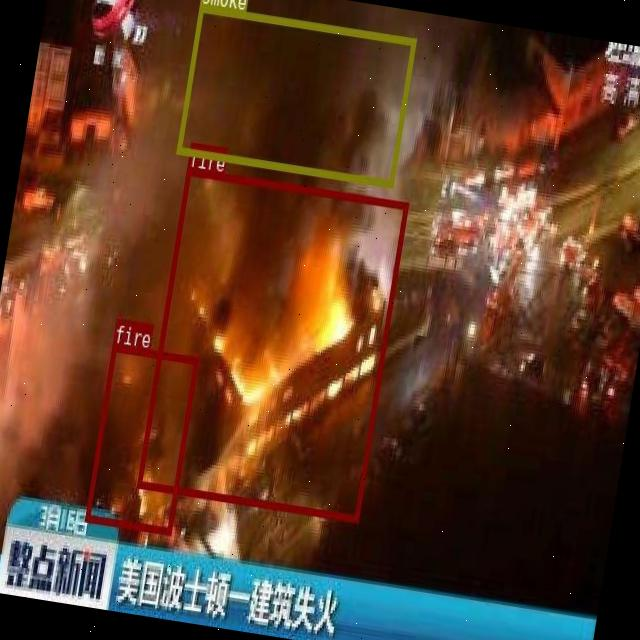fire: (136, 168, 408, 522), (85, 343, 199, 533)
smoke: (176, 5, 416, 186)
